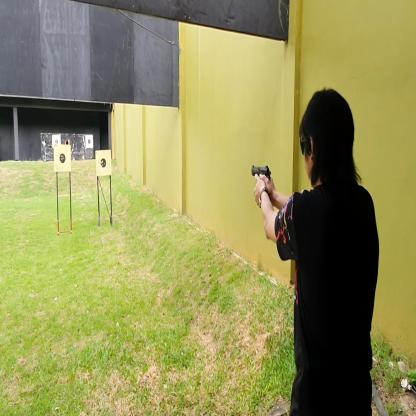handgun: (250, 163, 270, 180)
